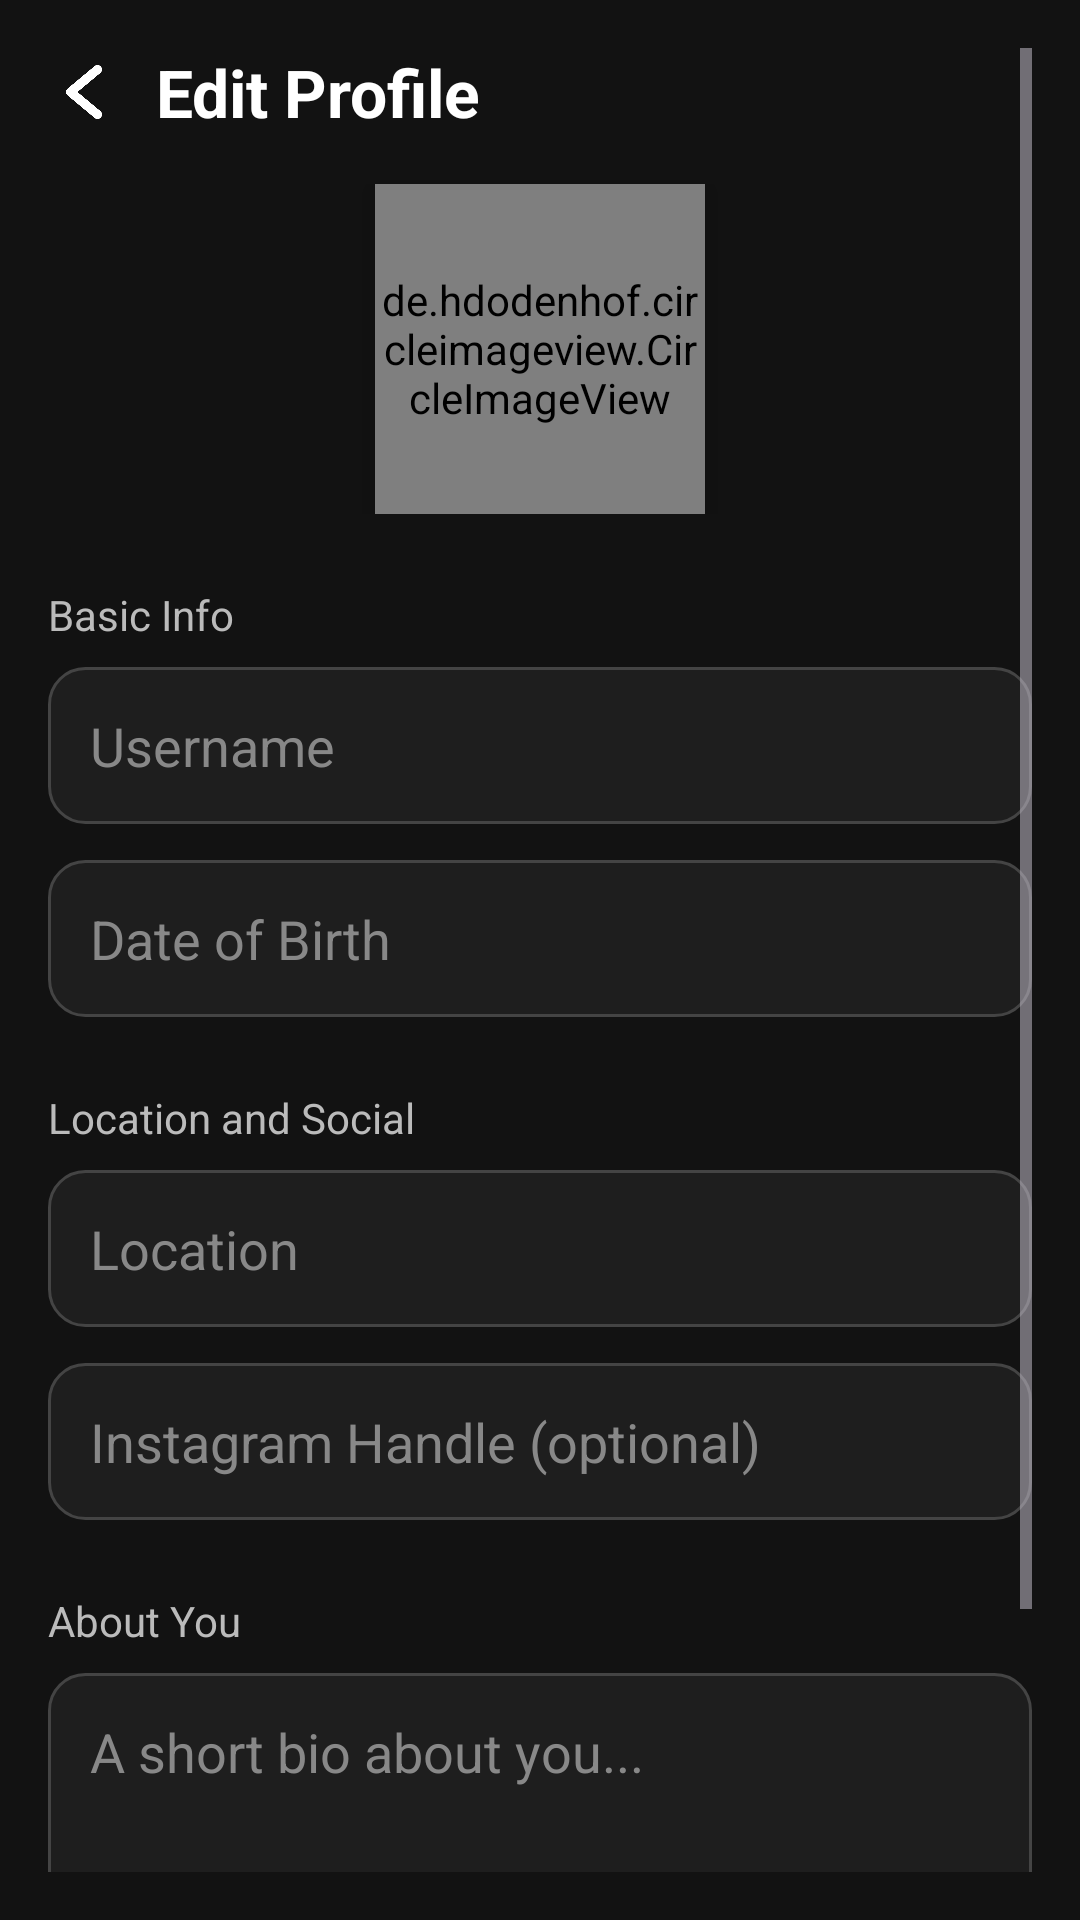

Locate icon controls on the screen. Image size 1080px×1920px, boxes as box=[x1, y1, x2, y2].
back: box=[66, 65, 102, 119]
